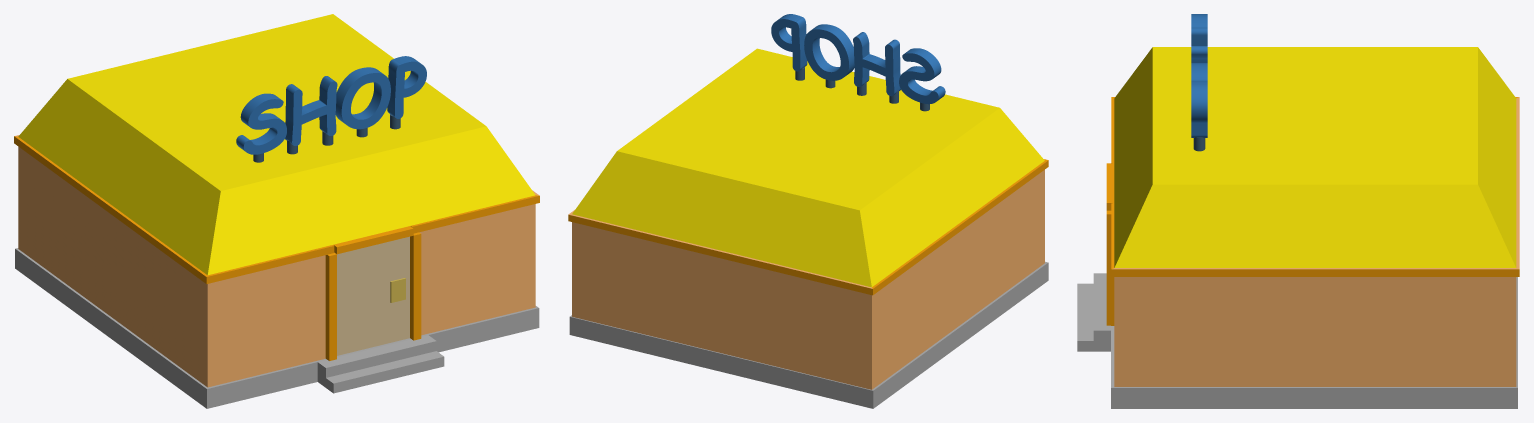
File: Shop.fbx
3 views of the same model, side by side, from view 1: azimuth 30°, elevation 25°; view 2: azimuth 150°, elevation 25°; view 3: azimuth 270°, elevation 25° (orthographic). The views are drawn at different scales.
Visible parts, largest first — view 1: Cube, Text, Cylinder; view 2: Cube, Text, Cylinder; view 3: Cube, Text.
Boxes of the visible parts, box(x1,y1,x2,y2) form: Cube: box(14, 14, 539, 408); Text: box(236, 56, 426, 154); Cylinder: box(253, 114, 400, 162); Cube: box(568, 48, 1048, 408); Text: box(771, 14, 945, 104); Cylinder: box(795, 67, 929, 111); Cube: box(1077, 47, 1519, 408); Text: box(1191, 14, 1207, 137).
Size of the model in its own units: 8.53 by 9.24 by 6.52.
